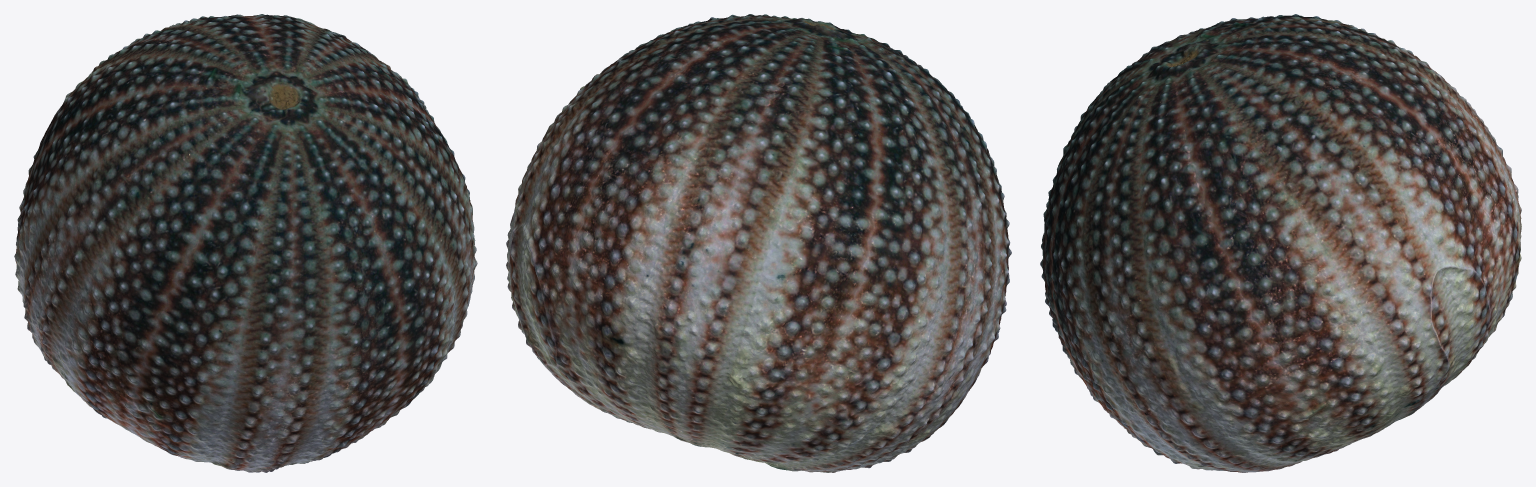
The model's file is MZUR3D-033.glb.
3 renders of one model, left to right at view 1: azimuth 30°, elevation 25°; view 2: azimuth 150°, elevation 25°; view 3: azimuth 270°, elevation 25°, orthographic. The views are drawn at different scales.
Visible parts, largest first — view 1: MZUR3D-033; view 2: MZUR3D-033; view 3: MZUR3D-033.
Boxes of the visible parts, x1=… form: MZUR3D-033: x1=14, y1=14, x2=477, y2=472; MZUR3D-033: x1=506, y1=14, x2=1011, y2=472; MZUR3D-033: x1=1040, y1=14, x2=1521, y2=472.
Size of the model in its own units: 4.76 by 4.5 by 4.81.
Materials: 1 (1 with a texture image).
